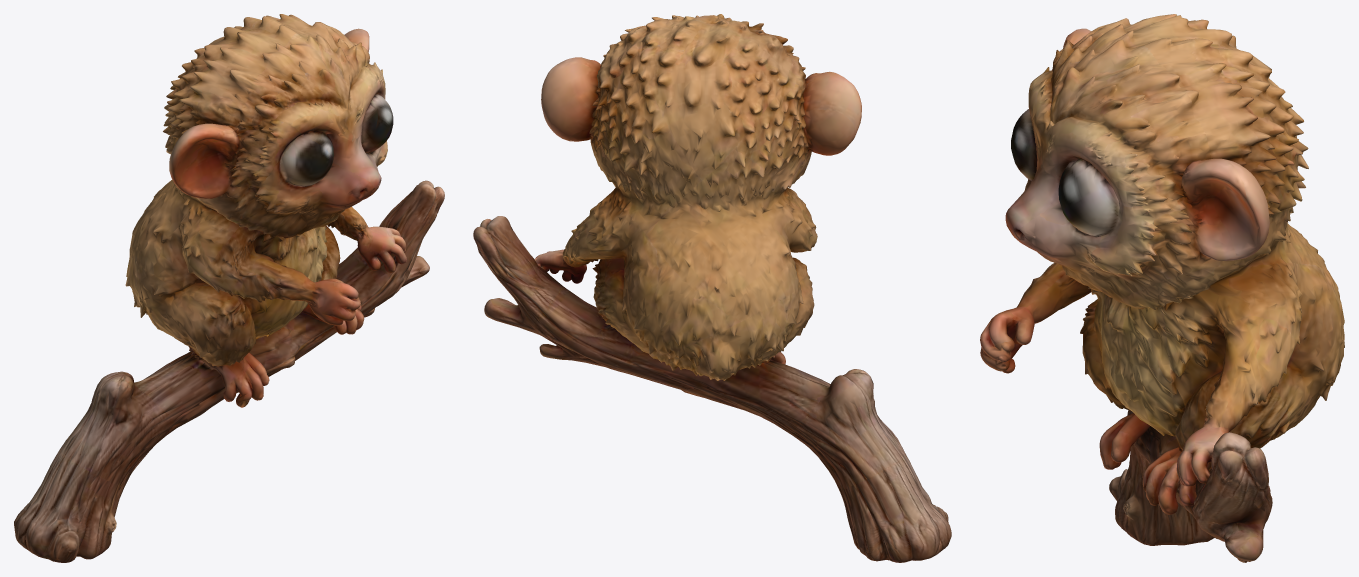
The model's file is tarsier.glb.
The picture shows the model from 3 angles, left to right: view 1: azimuth 30°, elevation 25°; view 2: azimuth 150°, elevation 25°; view 3: azimuth 270°, elevation 25°; orthographic projection. The views are drawn at different scales.
Parts seen in each view (by area): view 1: tripo_node_9f31fe7e-65db-4fa1-974a-156de8875fa0; view 2: tripo_node_9f31fe7e-65db-4fa1-974a-156de8875fa0; view 3: tripo_node_9f31fe7e-65db-4fa1-974a-156de8875fa0.
Part boxes in pixels (x1,y1,x2,y2): tripo_node_9f31fe7e-65db-4fa1-974a-156de8875fa0: (14,14,444,562); tripo_node_9f31fe7e-65db-4fa1-974a-156de8875fa0: (473,14,951,562); tripo_node_9f31fe7e-65db-4fa1-974a-156de8875fa0: (980,14,1344,562).
Size of the model in its own units: 0.9581 by 0.9791 by 0.5185.
1 material, 1 textured.
